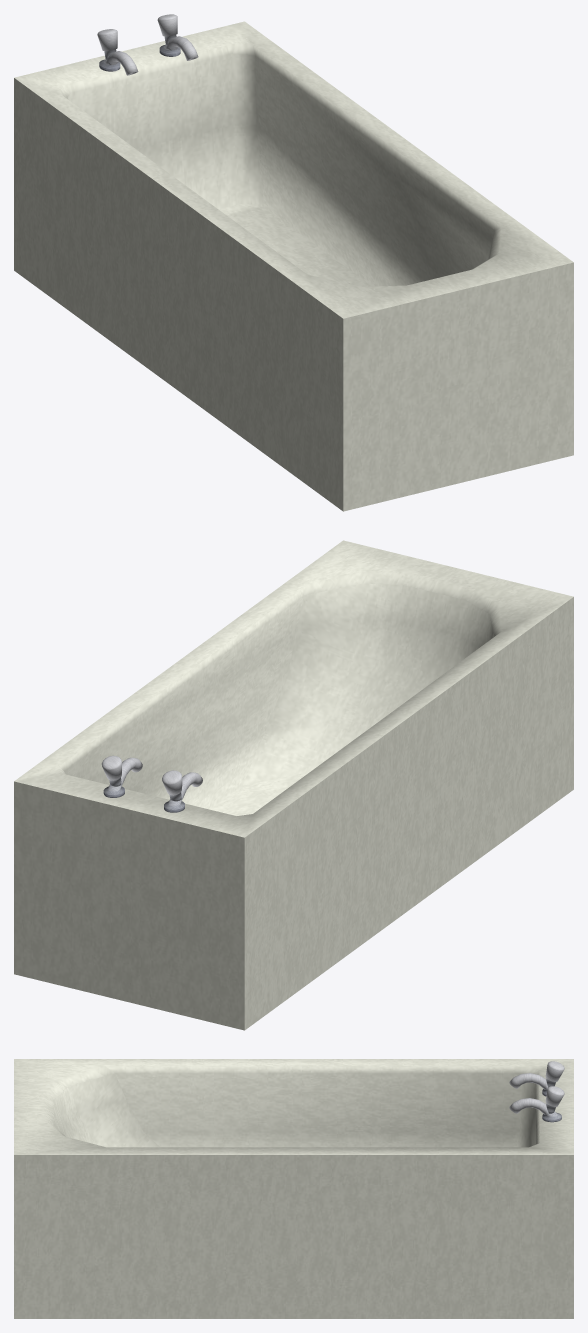
File: bath.obj
3 renders of one model, top to bottom at view 1: azimuth 30°, elevation 25°; view 2: azimuth 150°, elevation 25°; view 3: azimuth 270°, elevation 25°, orthographic. The views are drawn at different scales.
Parts seen in each view (by area): view 1: bath; view 2: bath; view 3: bath.
Part boxes in pixels (x1=…): bath: x1=14, y1=14, x2=573, y2=511; bath: x1=14, y1=540, x2=573, y2=1030; bath: x1=14, y1=1059, x2=573, y2=1318.
Size of the model in its own units: 8.09 by 7.68 by 20.
1 material, 1 textured.
